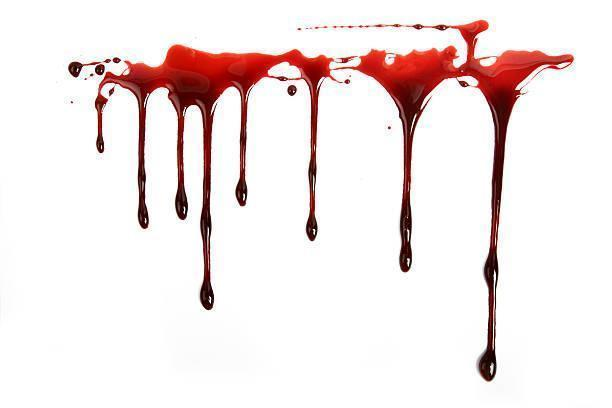Fire: (67, 21, 575, 384)
